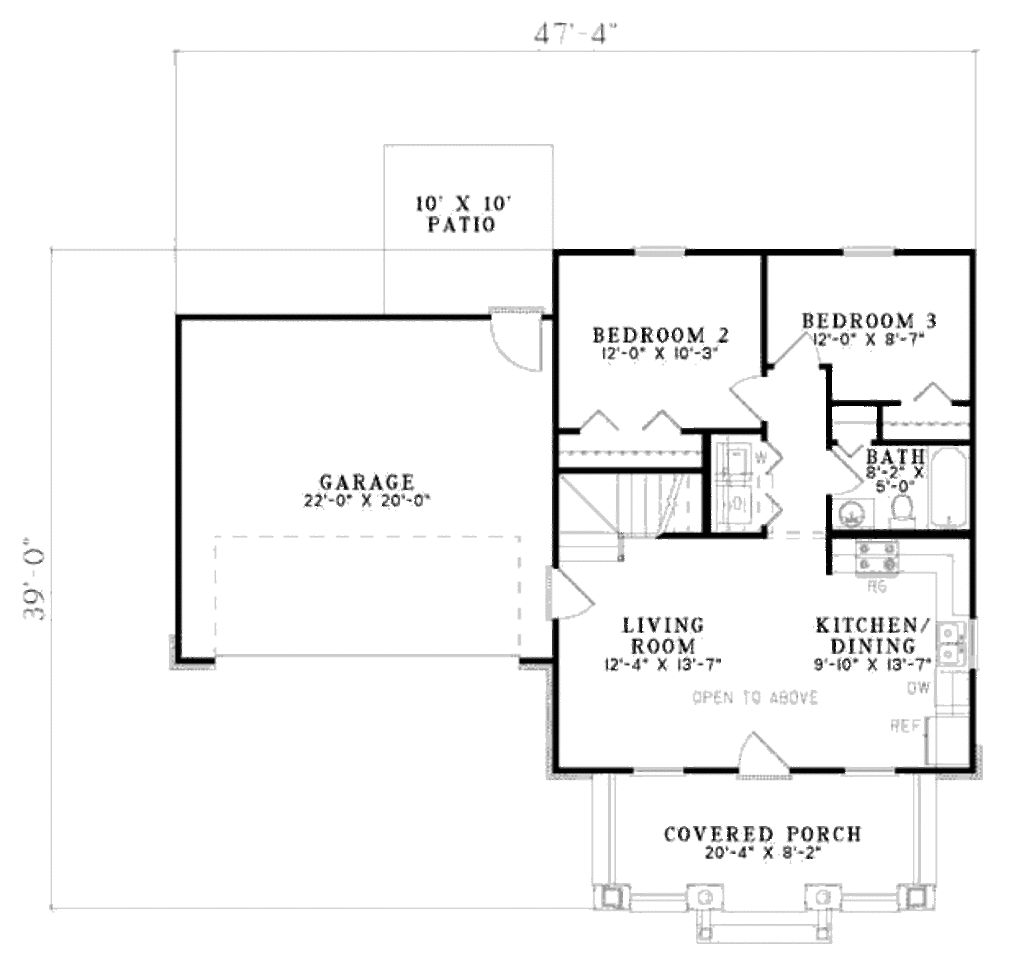door: (480, 295, 551, 382), (732, 716, 799, 785), (537, 562, 602, 626), (765, 325, 833, 375), (727, 368, 777, 423), (822, 448, 864, 496)
large_sink: (884, 489, 923, 530)
small_sink: (827, 494, 874, 530)
stairs: (554, 465, 705, 574)
tub: (927, 440, 975, 531)
twin_sink: (928, 605, 982, 673)
window: (828, 232, 905, 269), (629, 236, 698, 270), (625, 755, 689, 784), (844, 757, 902, 786)
